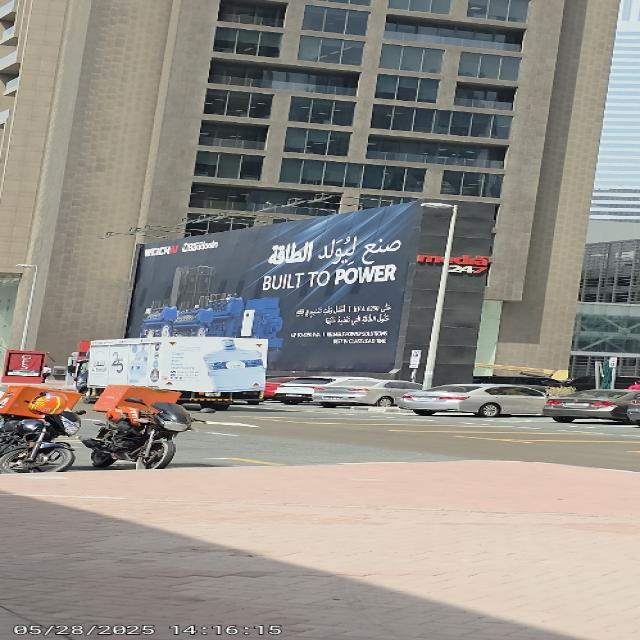poster: (120, 202, 493, 390)
